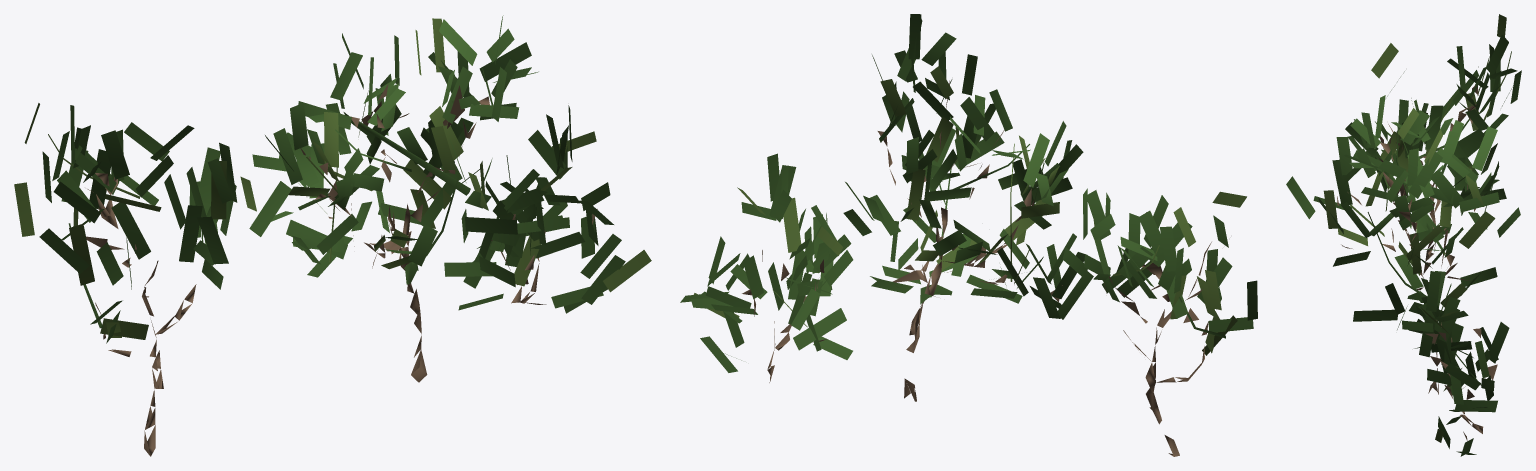
Rendered from arvores_trio_muito_longe.glb.
The picture shows the model from 3 angles, left to right: view 1: azimuth 30°, elevation 25°; view 2: azimuth 150°, elevation 25°; view 3: azimuth 270°, elevation 25°; orthographic projection. The views are drawn at different scales.
Visible parts, largest first — view 1: arvores_trio_muito_longe; view 2: arvores_trio_muito_longe; view 3: arvores_trio_muito_longe.
Part boxes in pixels (x1,y1,x2,y2): arvores_trio_muito_longe: (14, 15, 651, 456); arvores_trio_muito_longe: (680, 14, 1257, 456); arvores_trio_muito_longe: (1286, 14, 1521, 456).
Bounding box in the file's own units: 2.95 × 1.79 × 1.27.
